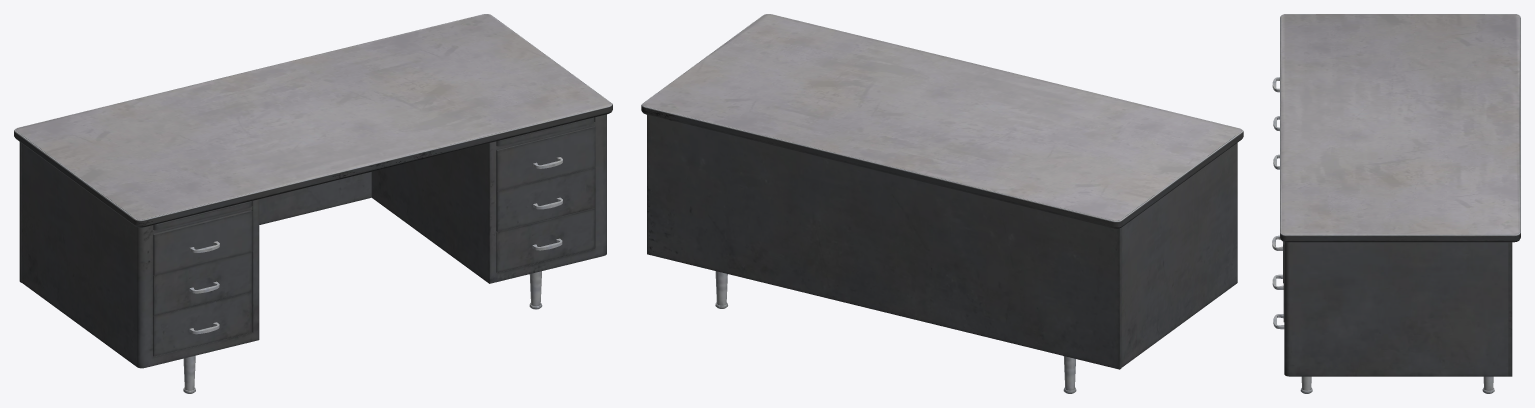
File: ph_metal_office_desk.glb
3 views of the same model, side by side, from view 1: azimuth 30°, elevation 25°; view 2: azimuth 150°, elevation 25°; view 3: azimuth 270°, elevation 25° (orthographic). The views are drawn at different scales.
Parts seen in each view (by area): view 1: metal_office_desk_drawer_06; view 2: metal_office_desk_drawer_06; view 3: metal_office_desk_drawer_06.
Part boxes in pixels (<box>): metal_office_desk_drawer_06: <box>14,14,612,393</box>; metal_office_desk_drawer_06: <box>641,14,1243,393</box>; metal_office_desk_drawer_06: <box>1272,14,1520,393</box>.
Bounding box in the file's own units: 2 × 0.7874 × 0.9471.
1 material, 1 textured.
